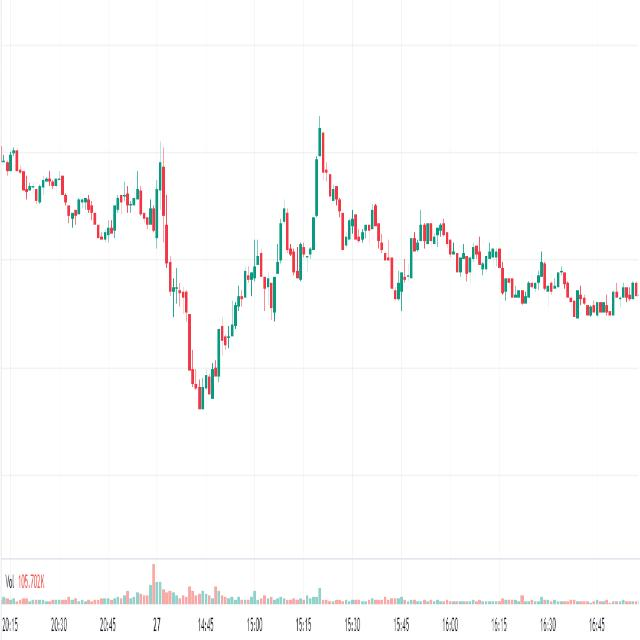Head-Shoulders: (272, 94, 394, 366)
Inverse-Head-Shoulders: (157, 115, 286, 429)
